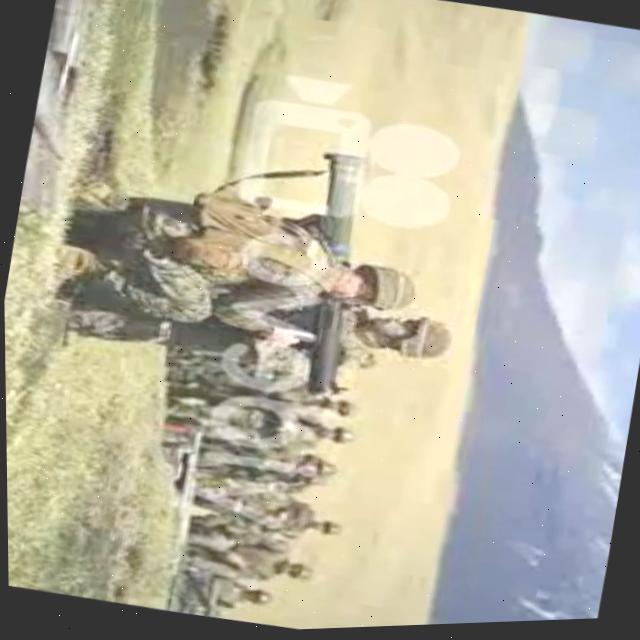rocket: (276, 154, 379, 409)
